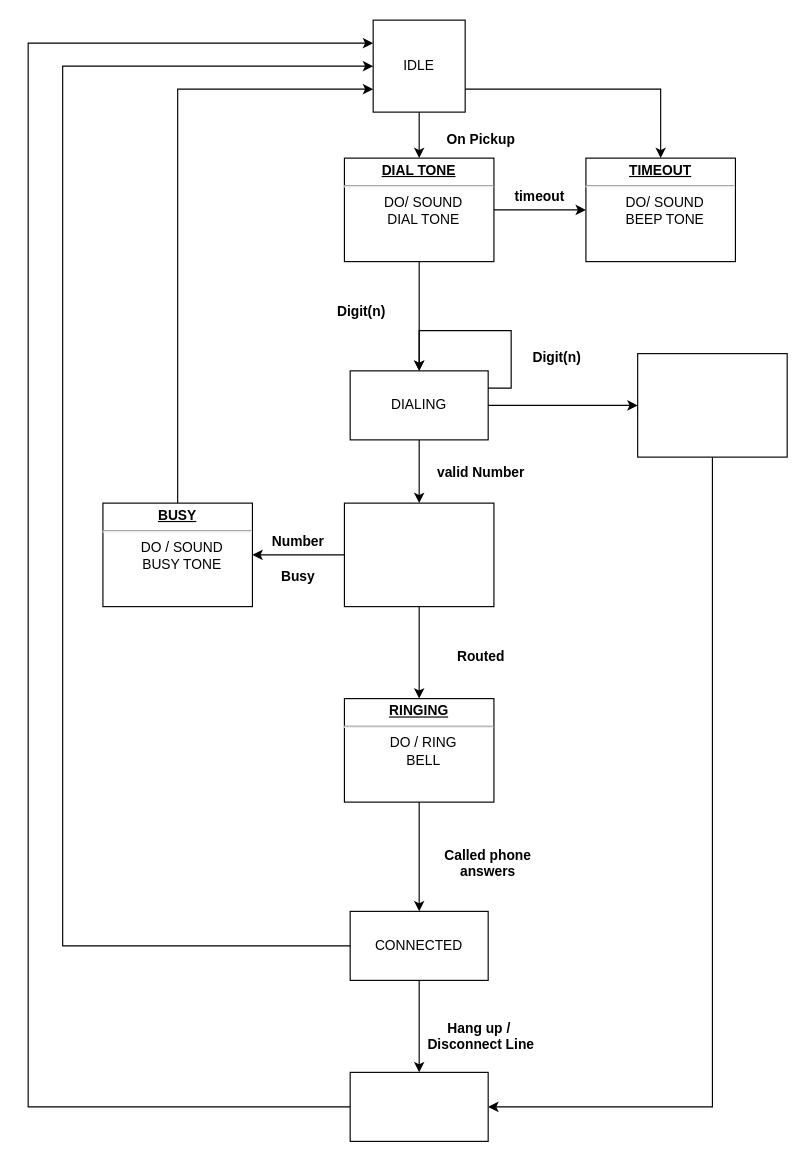
This 807x1162 diagram has some shape labels left out. Here are the shapes that lost their labels. From the top down, the centre of each, then its label:
(x=712, y=404): RECORDED MESSAGE DO / PLAY MESSAGE
(x=418, y=554): CONNECTING DO / FIND CONNECTION
(x=418, y=1106): DISCONNECTED
